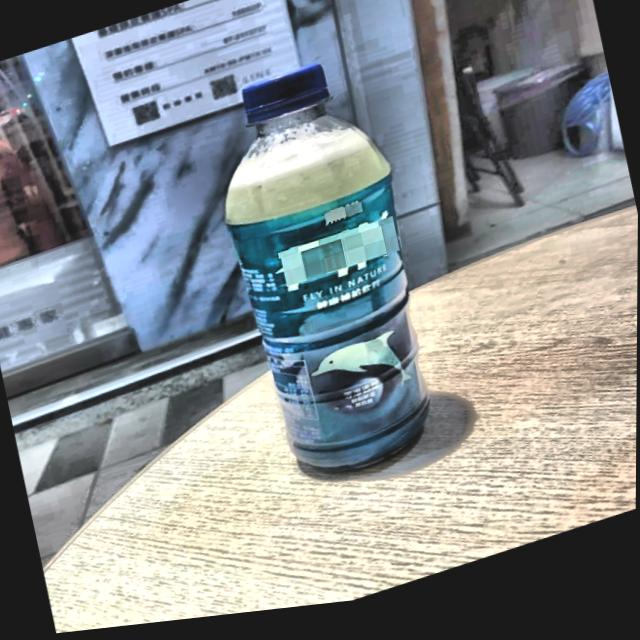Bottles: (161, 25, 486, 538)
